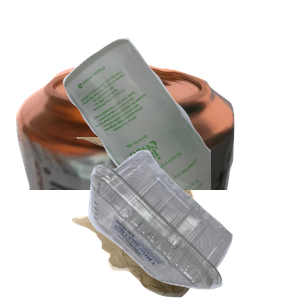glass: (60, 36, 300, 216)
metal: (13, 61, 240, 241)
plastic: (86, 147, 300, 300)
trash: (66, 137, 263, 300)
